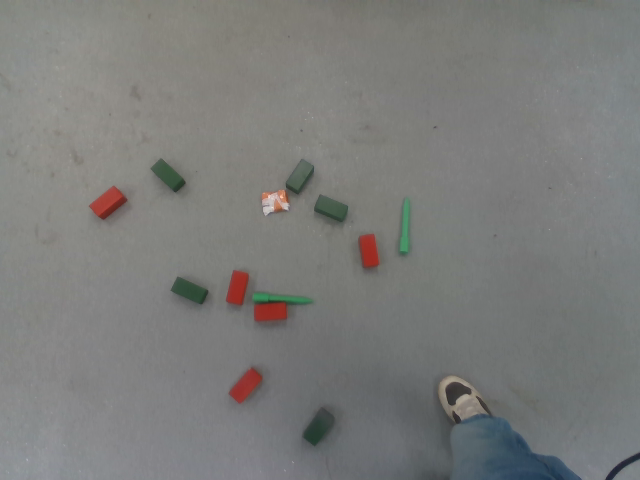Probe: (396, 195, 414, 257), (250, 289, 315, 305)
